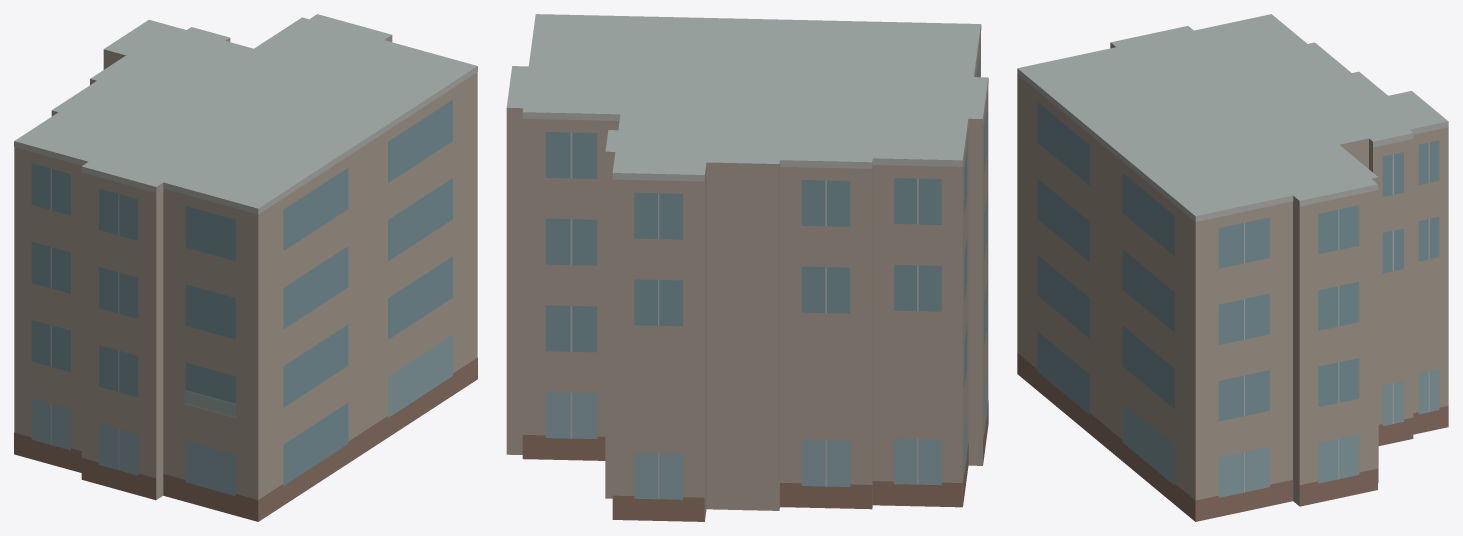
Rendered from survey-upis-32914257.glb.
3 renders of one model, left to right at view 1: azimuth 30°, elevation 25°; view 2: azimuth 150°, elevation 25°; view 3: azimuth 270°, elevation 25°, orthographic. The views are drawn at different scales.
Visible parts, largest first — view 1: survey-upis-32914257.tmp; view 2: survey-upis-32914257.tmp; view 3: survey-upis-32914257.tmp.
Boxes of the visible parts, left/top/right/bottom form: survey-upis-32914257.tmp: left=14, top=14, right=477, bottom=521; survey-upis-32914257.tmp: left=506, top=14, right=988, bottom=521; survey-upis-32914257.tmp: left=1017, top=14, right=1448, bottom=521.
Size of the model in its own units: 18.24 by 12.85 by 16.44.
